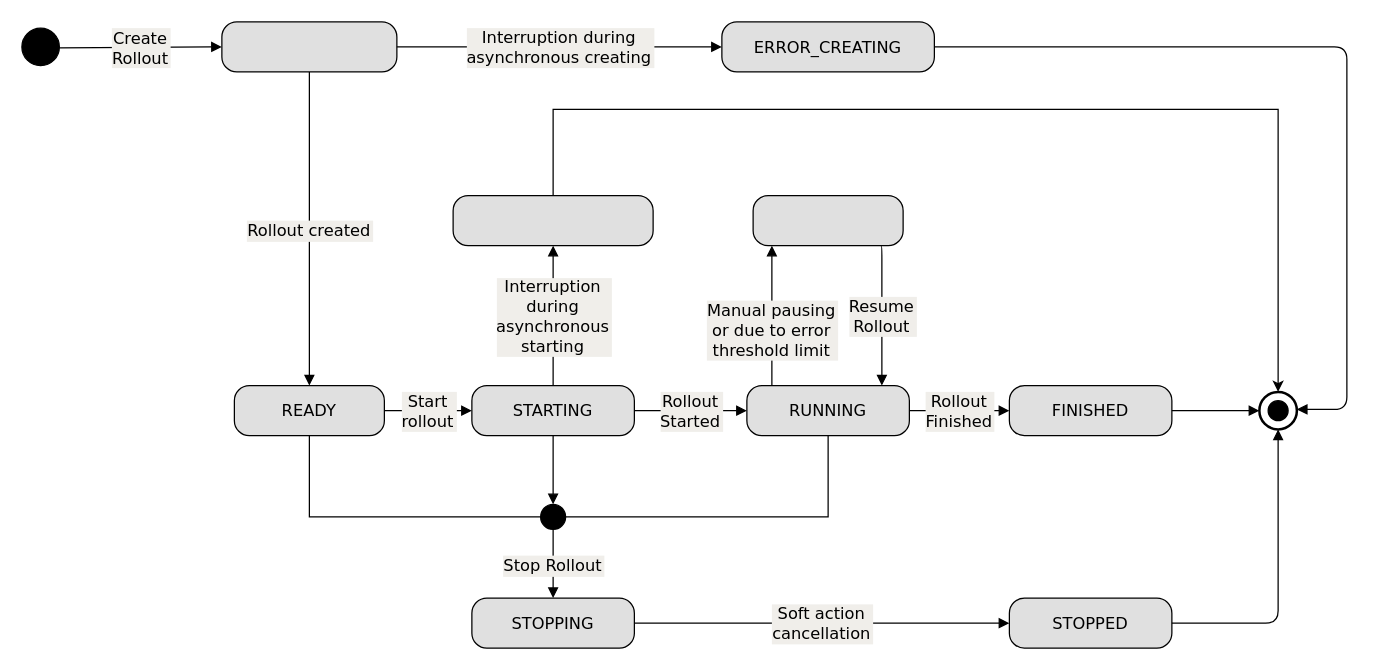
Some shapes in this 1379 by 670 pixel diagram are drawn without their labels. Here are the shapes that lost their labels. From the top down, the box of each, then its label:
(221, 21, 397, 72): CREATING
(452, 194, 653, 246): ERROR_STARTING
(752, 194, 903, 246): PAUSED
